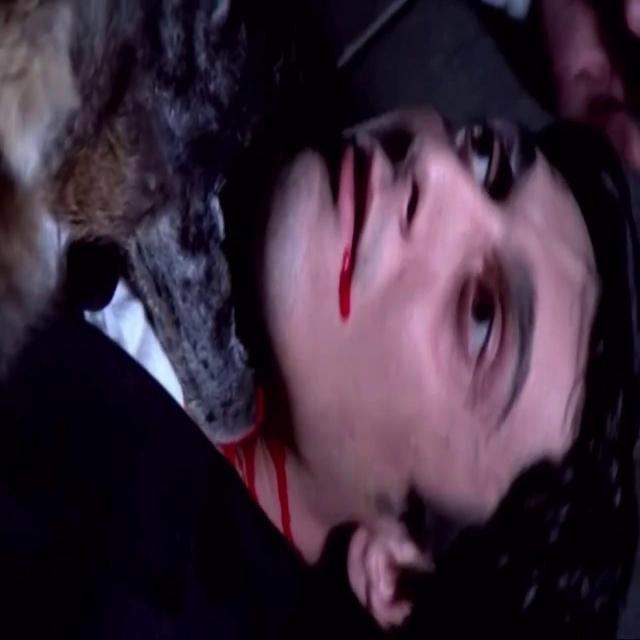flood: (206, 374, 336, 560), (331, 247, 383, 325)
